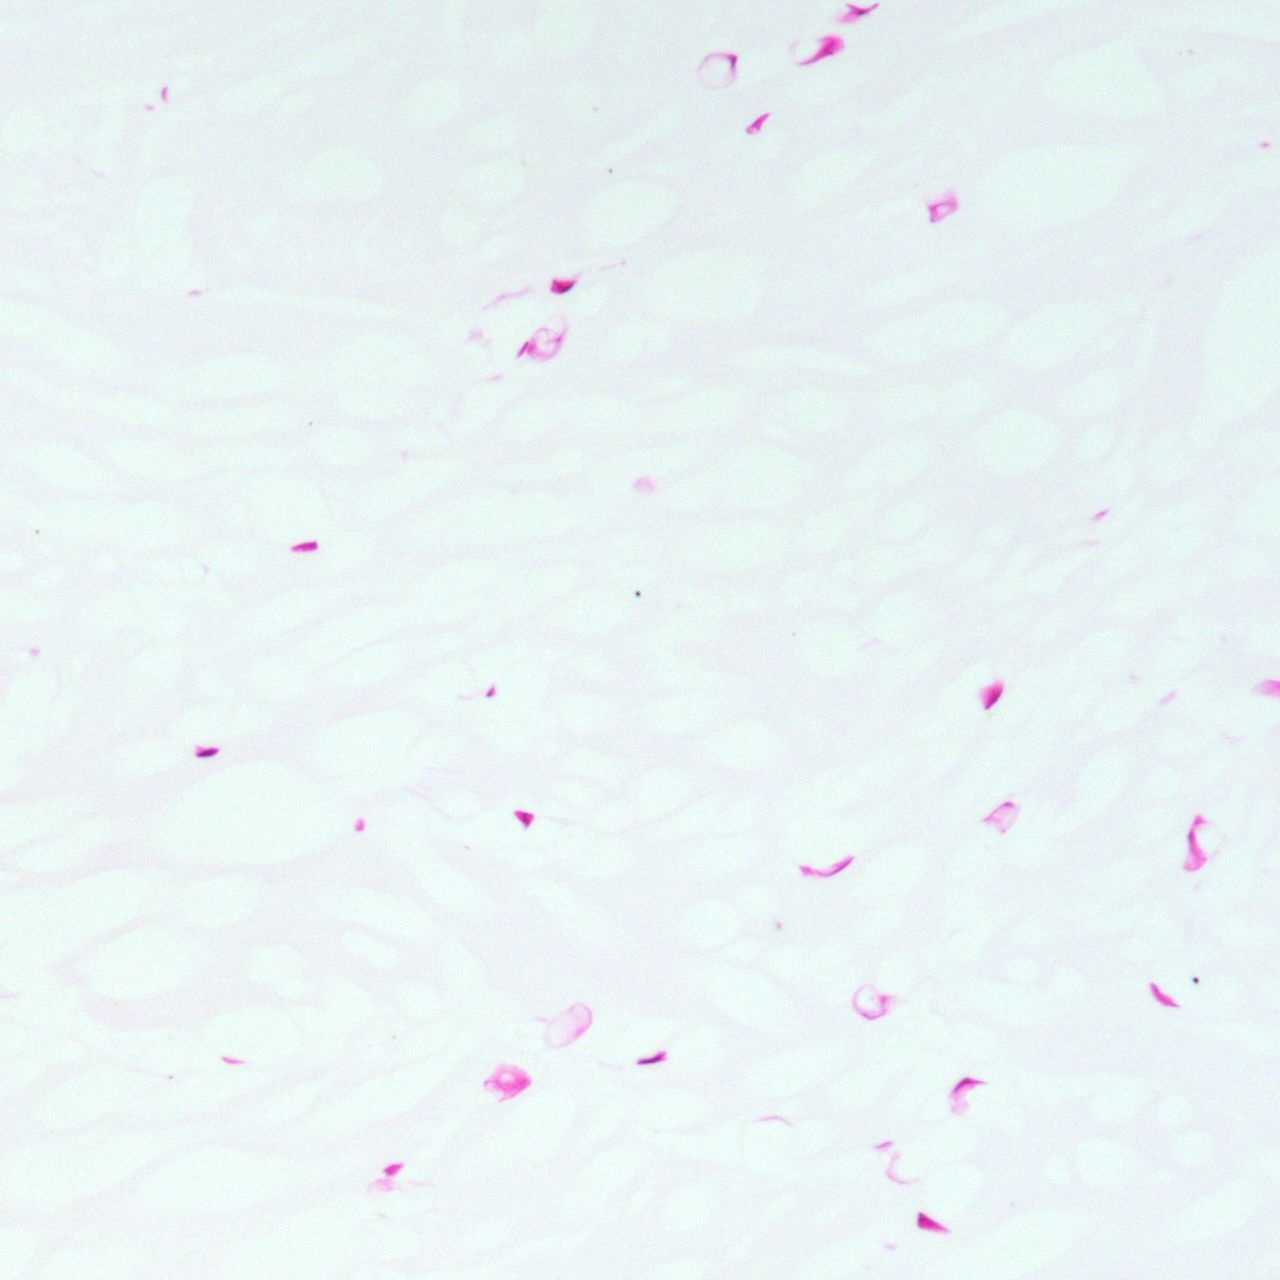dust: (1193, 977, 1198, 982)
nucleus-FG: (912, 1210, 950, 1242), (978, 678, 1006, 713), (510, 807, 534, 829), (635, 1050, 669, 1065), (291, 539, 319, 555), (550, 279, 573, 293), (195, 748, 217, 757)
